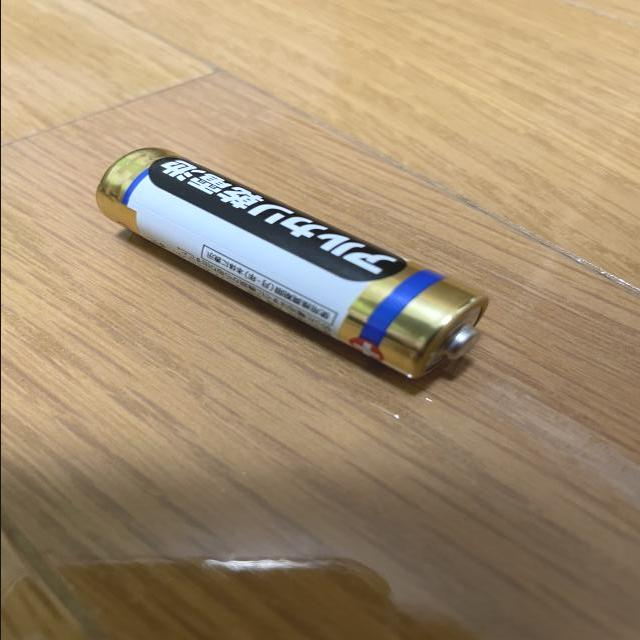AA: (90, 145, 499, 385)
